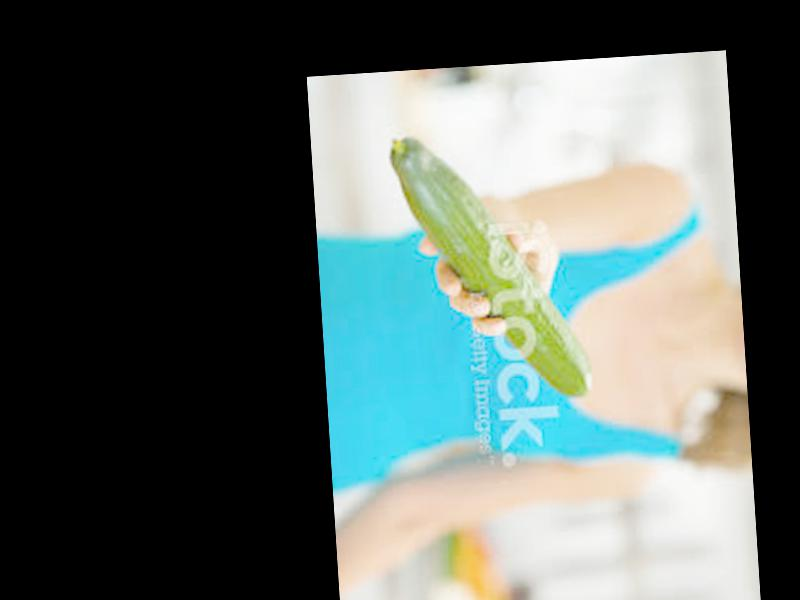Cucumber: (387, 127, 592, 409)
